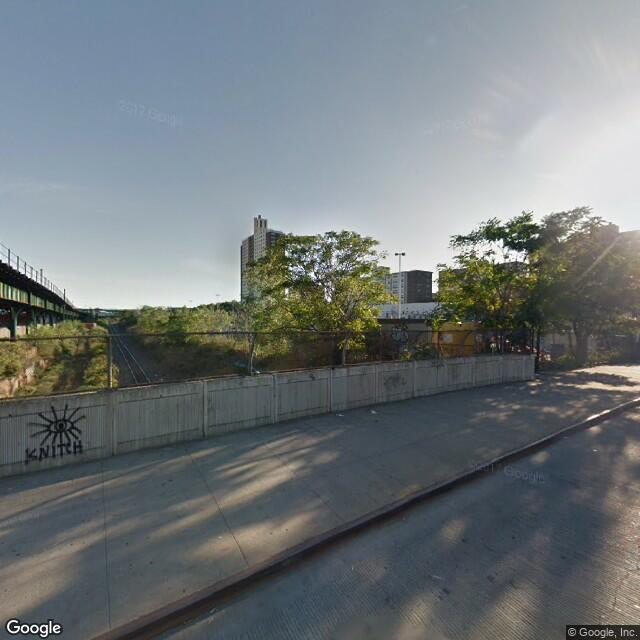litter: (325, 407, 418, 432)
